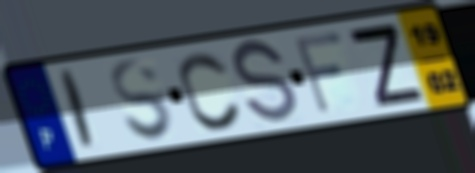C: (176, 49, 245, 133)
F: (290, 28, 347, 118)
I: (58, 66, 98, 155)
S: (231, 36, 300, 130), (107, 56, 177, 144)
Z: (343, 22, 428, 110)
